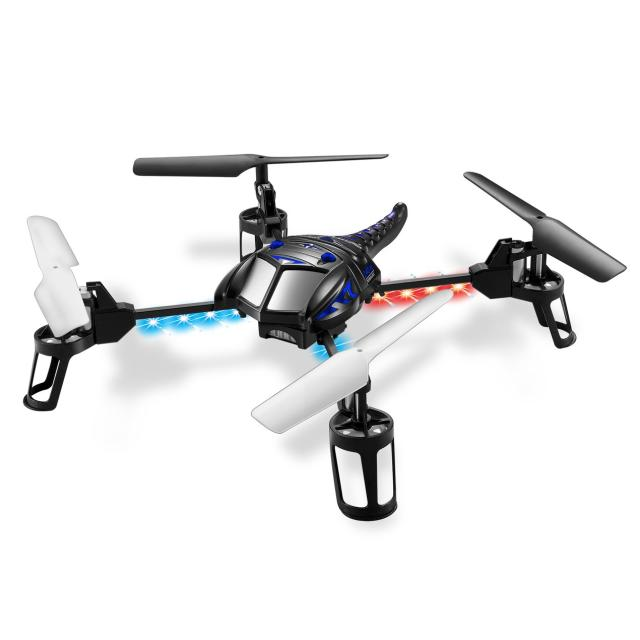drone: (0, 138, 640, 566)
